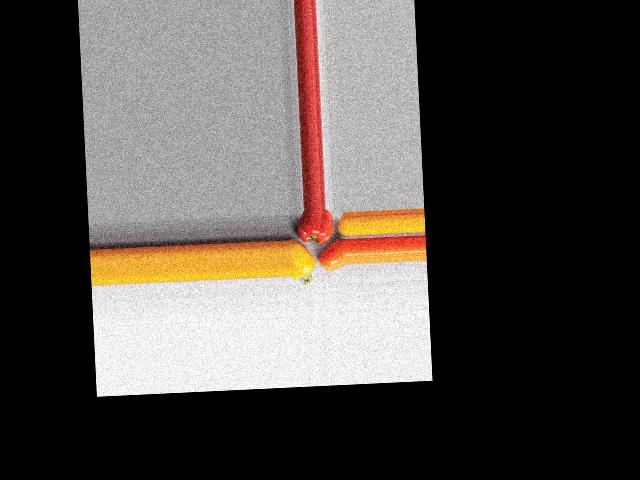bell_pepper: (293, 210, 333, 244)
